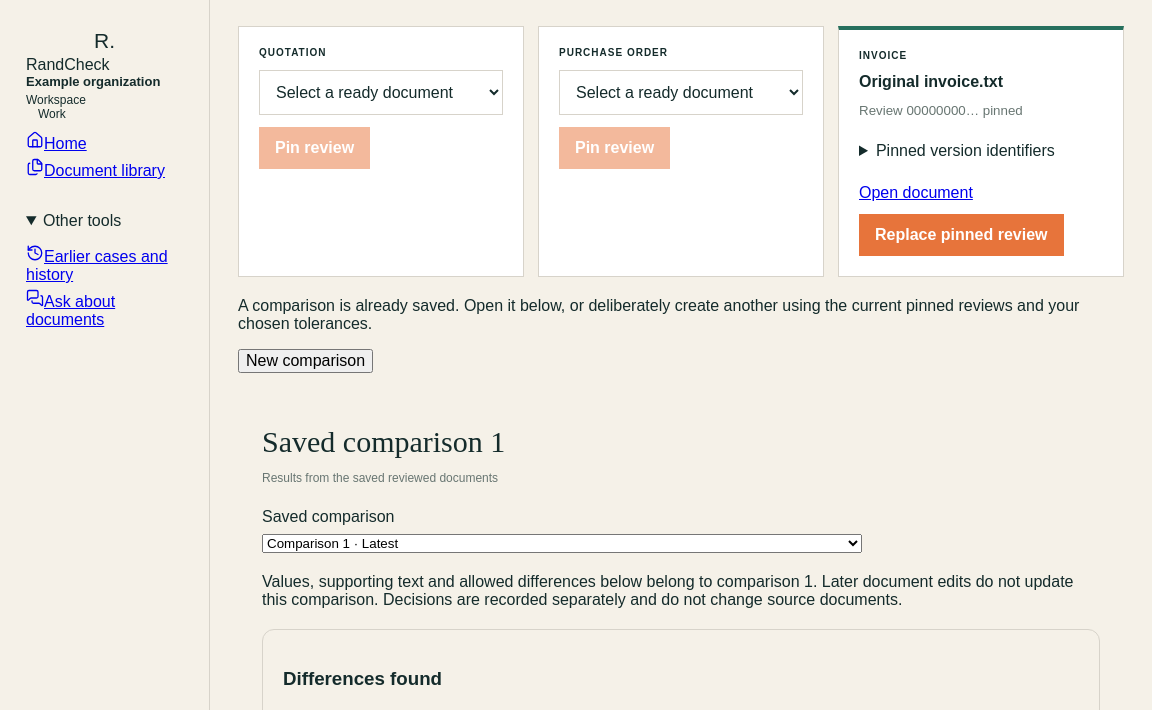
Test case: deliberate comparison actions and safe retries › requires explicit comparison intent, permits cancellation, and submits a deliberate rerun once
This screenshot has width=1152, height=710.
(page scrolled)
Click the button "New comparison" at (306, 360), box [238,348,373,372]
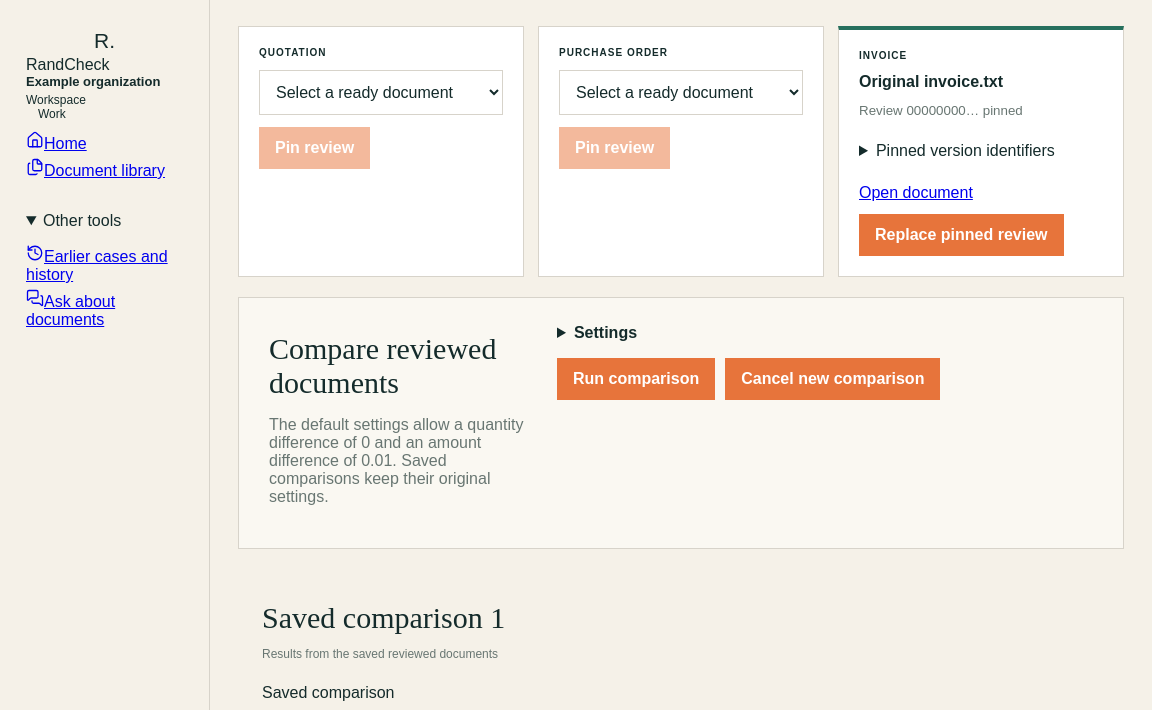
Click the button "Cancel new comparison" at (833, 378), box [725,358,940,400]
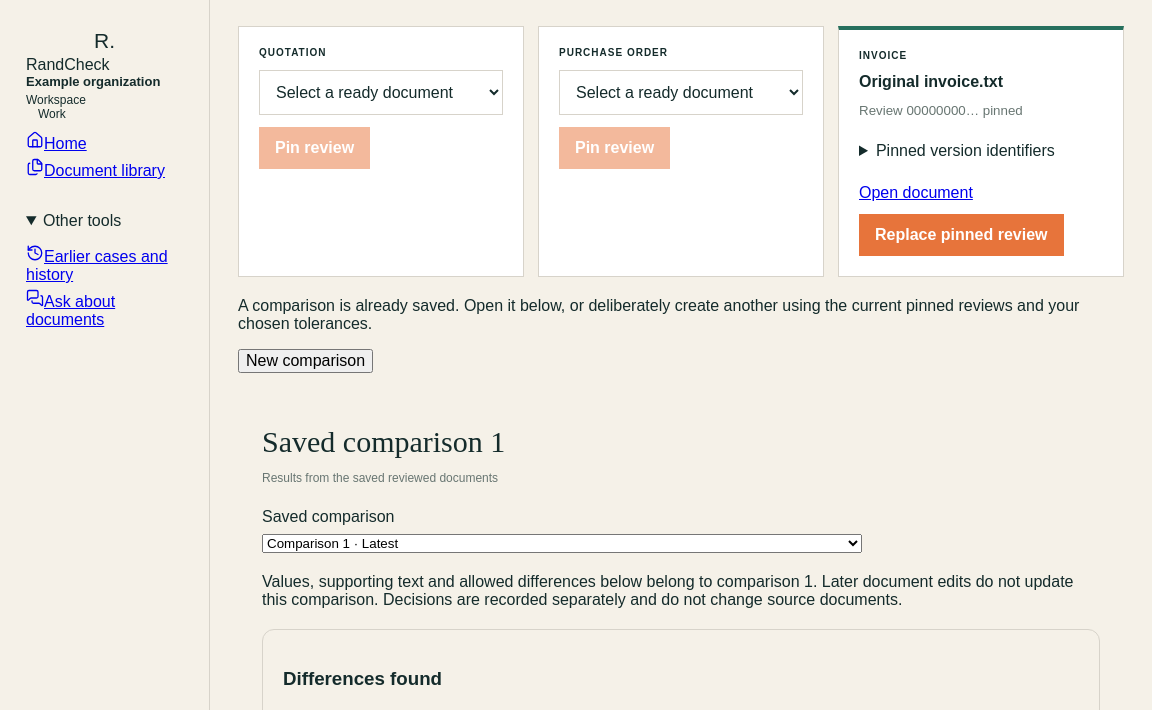
Click the button "New comparison" at (306, 360), box [238,348,373,372]
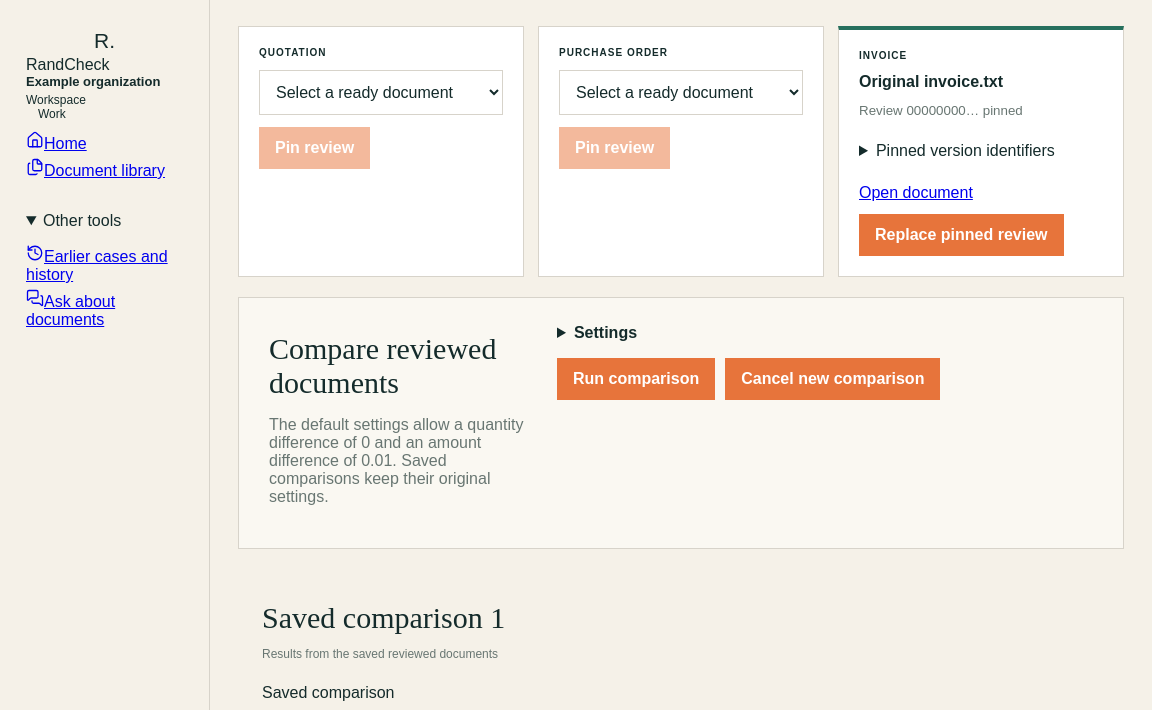
Submit the form "Run comparison", box [557,324,940,400]
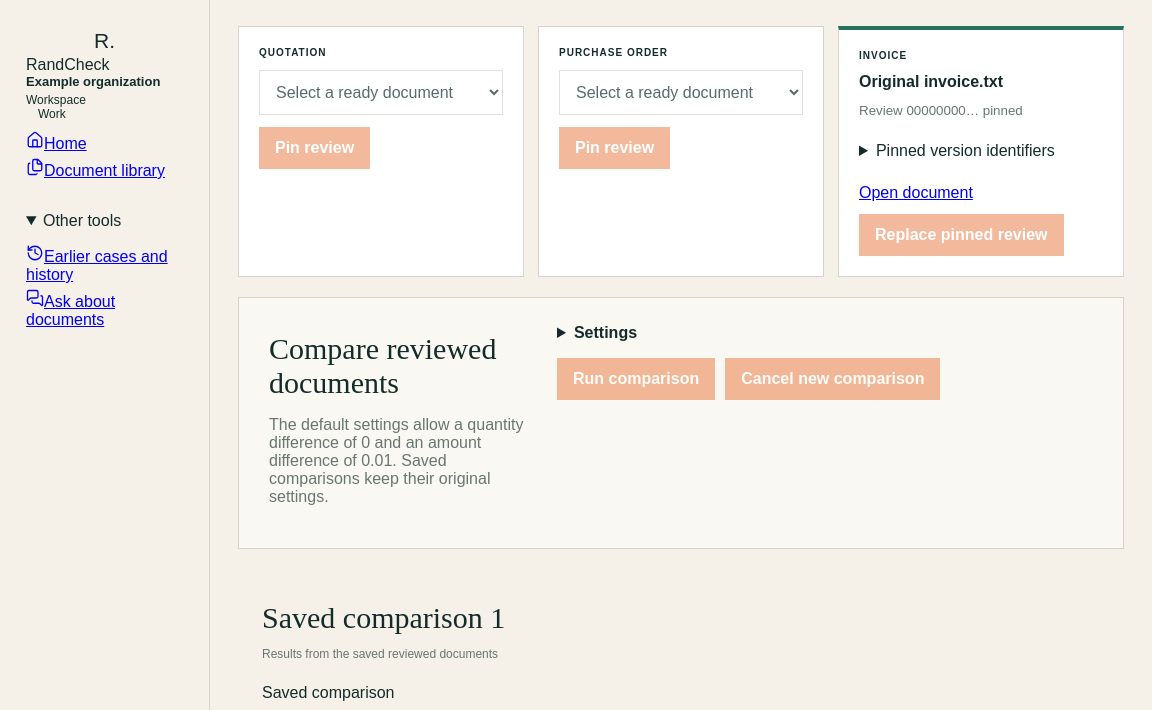
Submit the form "Run comparison", box [557,324,940,400]
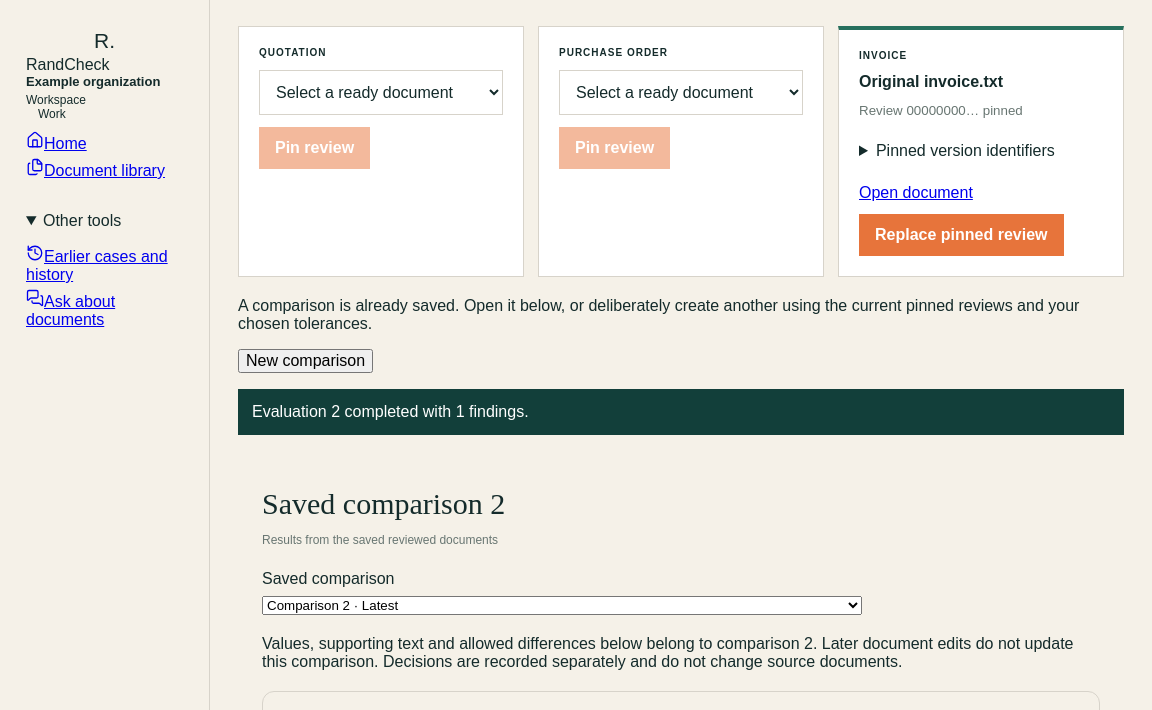
Expected: the button "New comparison" is shown, [238,348,373,372]
Result: the text "Evaluation 2 completed with 1 findings." is shown at [238,388,1124,434]
Result: the button "Run comparison" is gone
